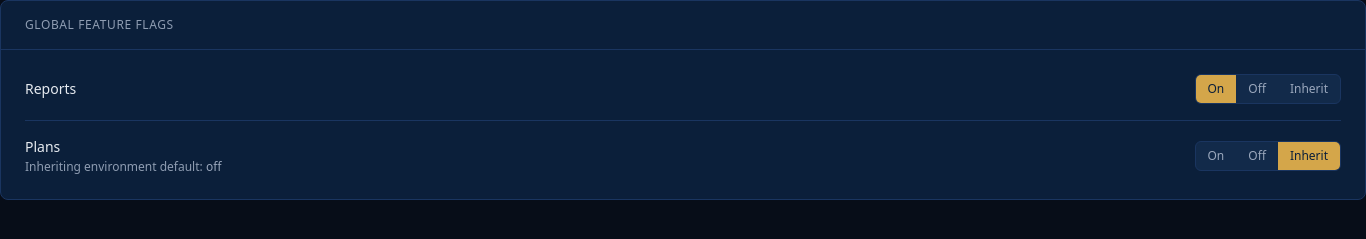
it: FeatureFlagsCard › shows a per-feature error when PUT fails
Expected: the text "Reports" is shown, [25, 79, 76, 99]
Click the button "off" in the row of "Reports": (1257, 89) [1236, 75, 1278, 103]
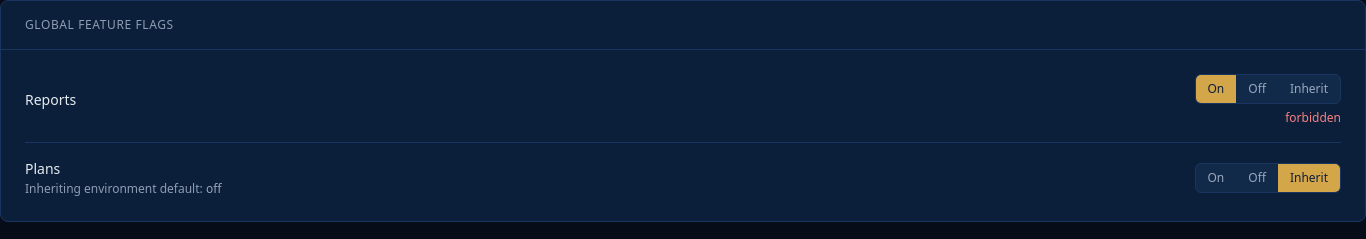
Now the text "forbidden" is shown, box [1285, 110, 1341, 126]
